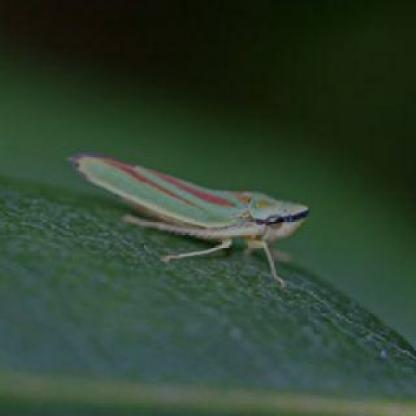green-leafhopper: (74, 149, 292, 269)
